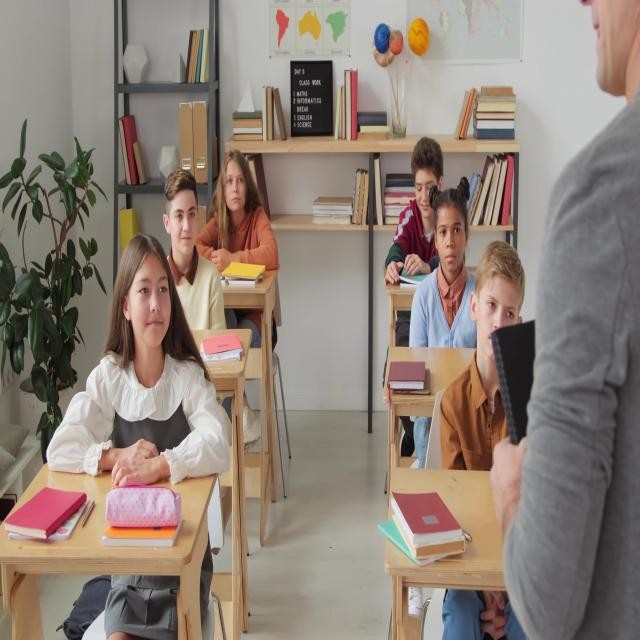listening: (48, 235, 234, 482), (440, 247, 530, 475), (198, 148, 280, 326), (409, 184, 478, 358), (164, 168, 230, 331)
writing: (383, 137, 442, 295)
